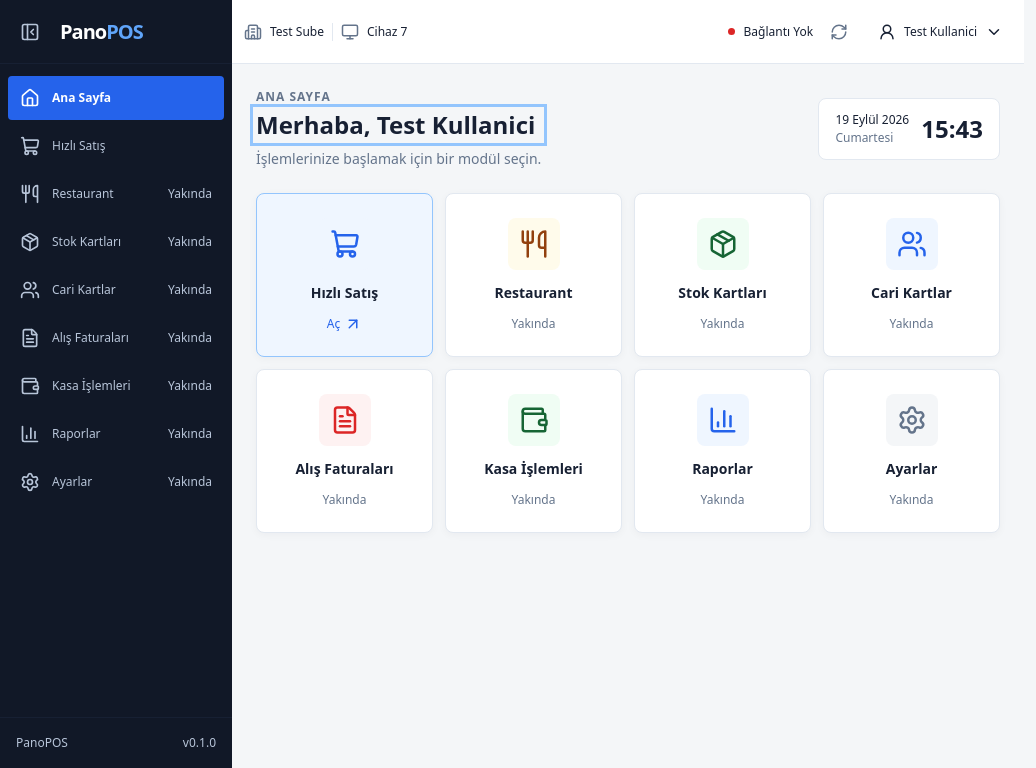
Application shell › health failure keeps shell and navigation usable without raw errors
This screenshot has width=1036, height=768.
Click the link "Hızlı Satış" at [63, 146], box 20,136 -> 105,156
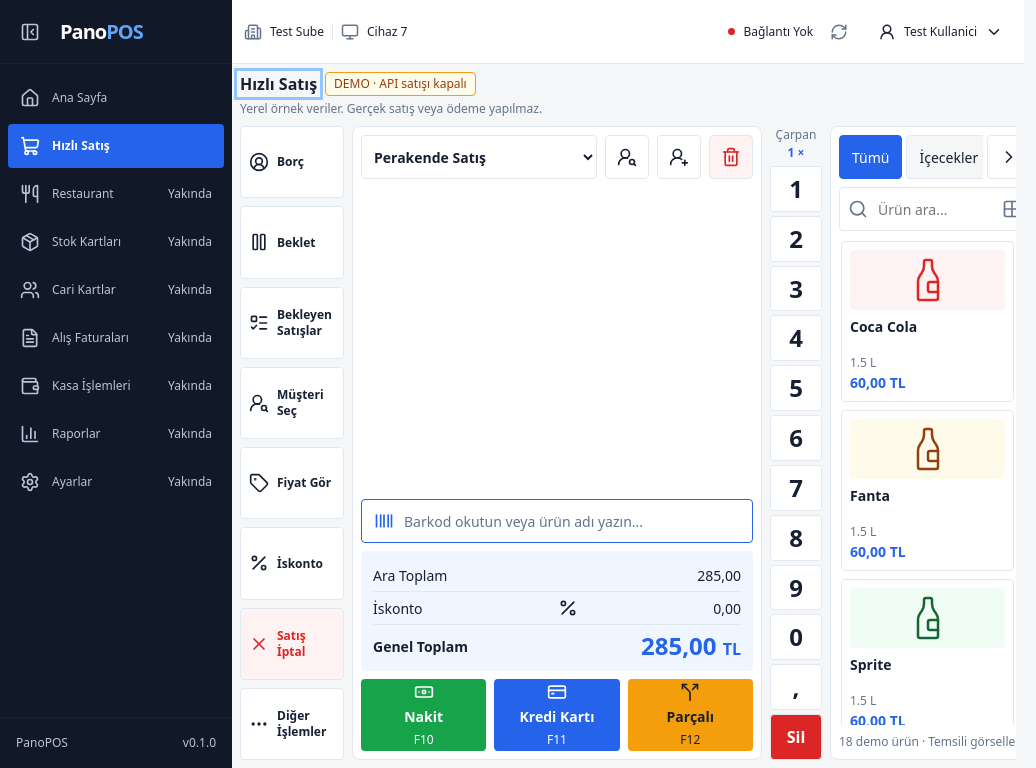
Check: the heading "Hızlı Satış" is shown, box 240,74 -> 317,94
